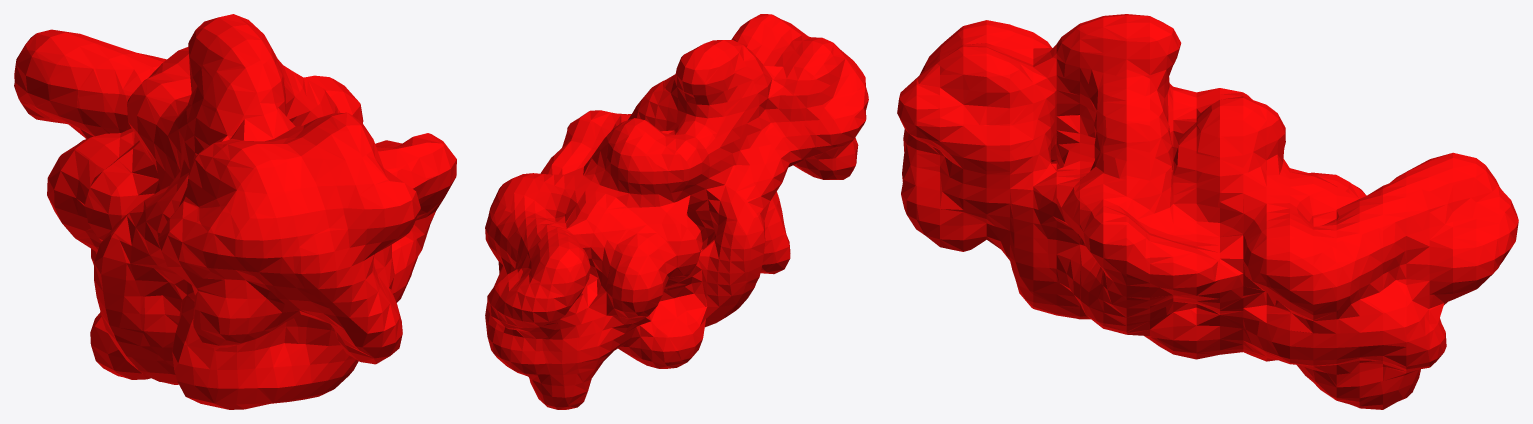
File: atpD_coarse.dae
3 views of the same model, side by side, from view 1: azimuth 30°, elevation 25°; view 2: azimuth 150°, elevation 25°; view 3: azimuth 270°, elevation 25° (orthographic). The views are drawn at different scales.
Visible parts, largest first — view 1: atpD; view 2: atpD; view 3: atpD.
Part boxes in pixels (x1,y1,x2,y2): atpD: [14, 14, 456, 409]; atpD: [485, 14, 868, 409]; atpD: [897, 14, 1518, 409].
Size of the model in its own units: 53.05 by 61.24 by 95.33.
